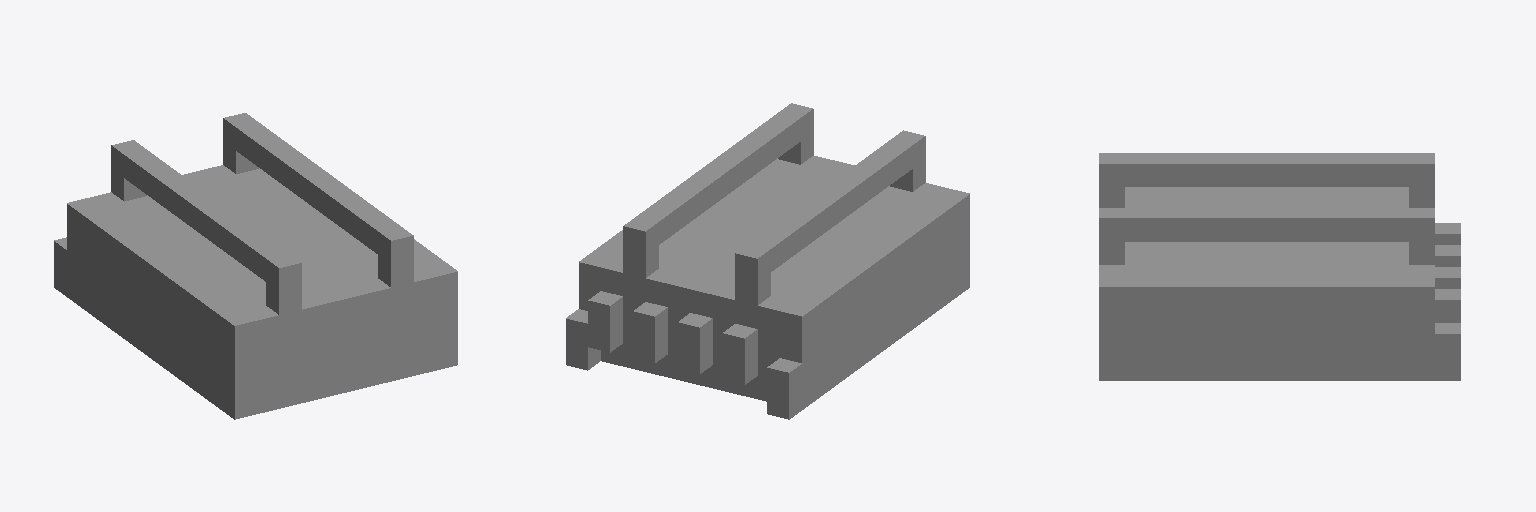
Rendered from condenser.obj.
3 views of the same model, side by side, from view 1: azimuth 30°, elevation 25°; view 2: azimuth 150°, elevation 25°; view 3: azimuth 270°, elevation 25° (orthographic).
Size of the model in its own units: 0.625 by 0.375 by 0.875.